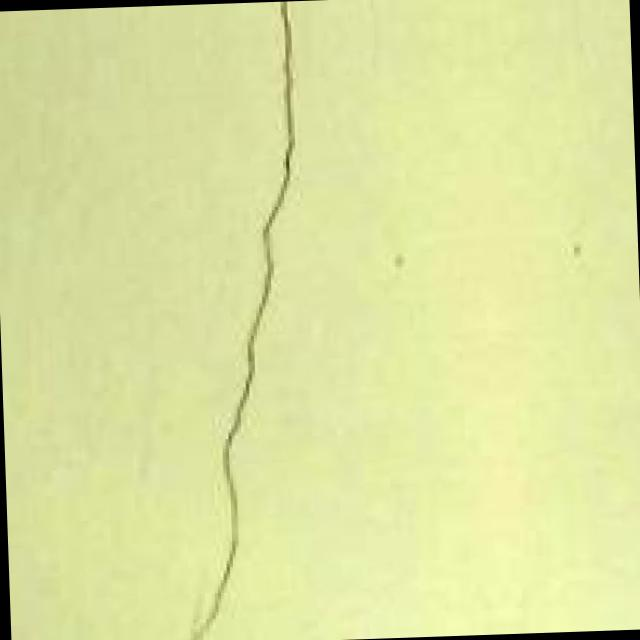crack: (171, 0, 385, 640)
